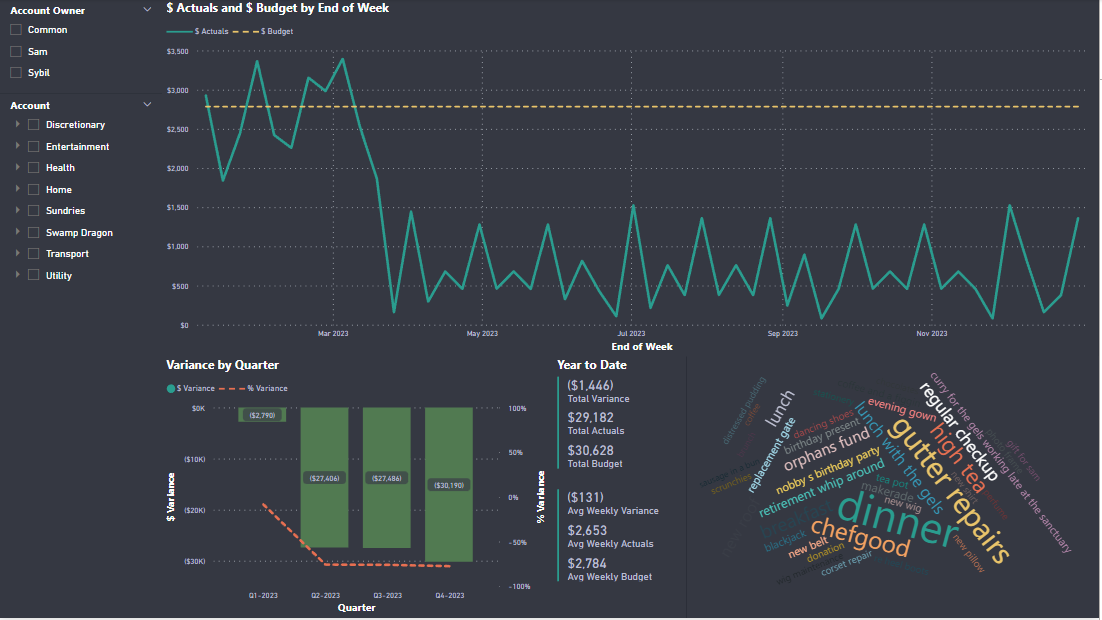

The page's visual inventory and layout, read from the dashboard file:
{"tool":"powerbi","page":{"name":"Account Details","canvas":[1280,720],"ordinal":2},"visuals":[{"type":"slicer","fields":{"Values":["Account.Account Type","Account.Account ID"]},"box":[0,110,189.8,610],"z":0},{"type":"lineChart","fields":{"Y":["_measures.$ Actuals","_measures.$ Budget"],"Category":["Date.End of Week"]},"box":[190,0,1090,416],"z":1000},{"type":"multiRowCard","title":"Year to Date ","fields":{"Values":["_measures.$ Variance","_measures.$ Actuals","_measures.$ Budget"]},"box":[645.1,415.9,154.8,154.8],"z":2000},{"type":"multiRowCard","title":"Avg Weekly","fields":{"Values":["_measures.Avg Weekly Variance","_measures.Avg Weekly Actuals","_measures.Avg Weekly Budget"]},"box":[645.1,565.2,154.8,154.8],"z":3000},{"type":"WordCloud1447959067750","fields":{"Category":["Actuals.Notes"],"Values":["Sum(Actuals.Amount)"]},"box":[800,415,480,305],"z":4000},{"type":"lineStackedColumnComboChart","title":"Variance by Quarter","fields":{"Y":["_measures.$ Variance"],"Y2":["_measures.% Variance"],"Category":["Date.Quarter-Year"]},"box":[189.8,415.3,455.2,304.7],"z":5000},{"type":"slicer","fields":{"Values":["Account.Account Owner"]},"box":[0,0,189.8,110],"z":6000}]}

Visuals, with their boxes in screenshot pixels (x1, y1, x2, y2), scaled from the page's 1280x720 canvas onto the 1102x620 screenshot:
slicer - Account.Account Type x Account.Account ID: crop(0, 95, 163, 619)
lineChart - _measures.$ Actuals x _measures.$ Budget: crop(164, 0, 1101, 358)
"Year to Date " multiRowCard: crop(555, 358, 689, 491)
"Avg Weekly" multiRowCard: crop(555, 487, 689, 619)
WordCloud1447959067750 - Actuals.Notes x Sum(Actuals.Amount): crop(689, 357, 1101, 619)
"Variance by Quarter" lineStackedColumnComboChart: crop(163, 358, 555, 619)
slicer - Account.Account Owner: crop(0, 0, 163, 95)
